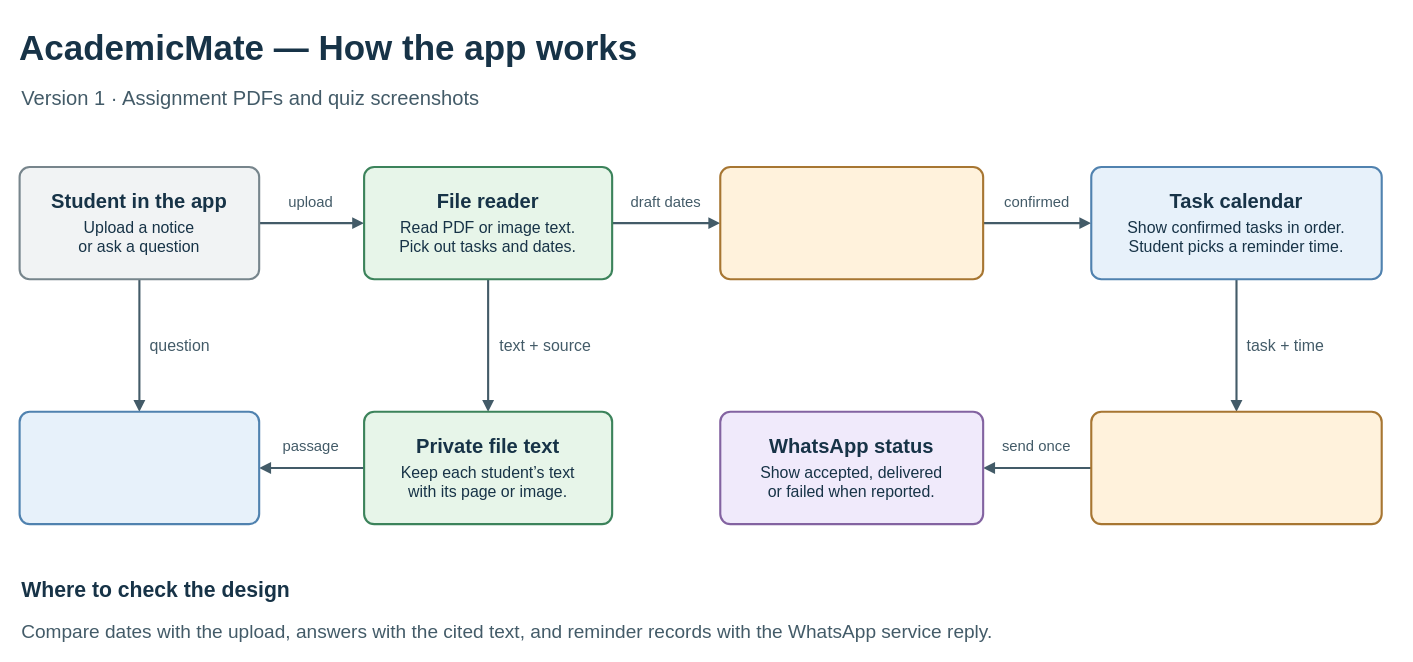
Image size: 1413x662. Some labels were removed from this diagram. The centre of each missing label's shape, as x and y in pixels:
Answer with source AI uses the passage or says the detail is missing.: the point at 139,467
Reminder schedule Check approval and keep one send record for each reminder.: the point at 1236,467
Student review Check the source, fix dates and confirm the task.: the point at 851,222
